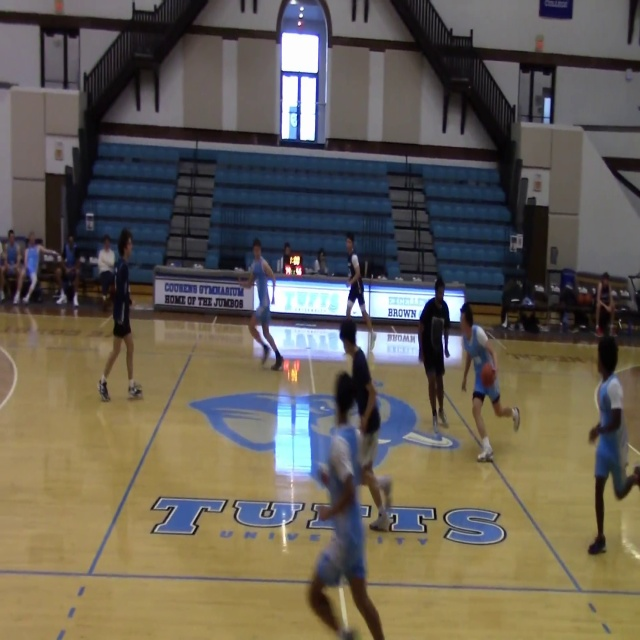Basketball: (481, 363, 496, 386), (238, 272, 254, 288)
